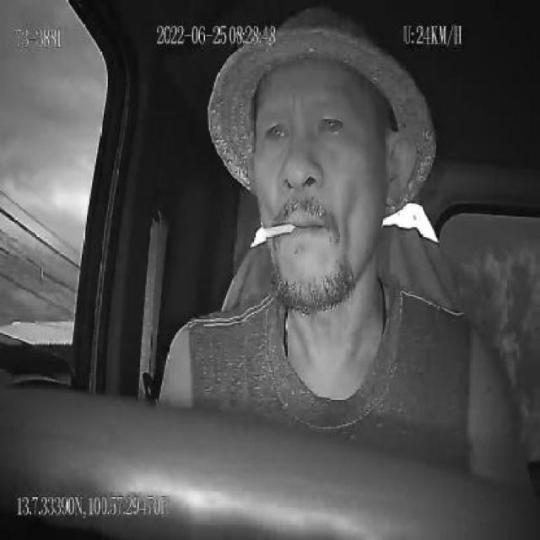smoking: (254, 219, 298, 241)
